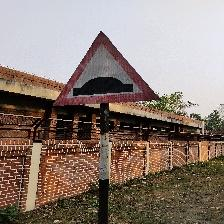Speed-breaker: (54, 30, 159, 106)
